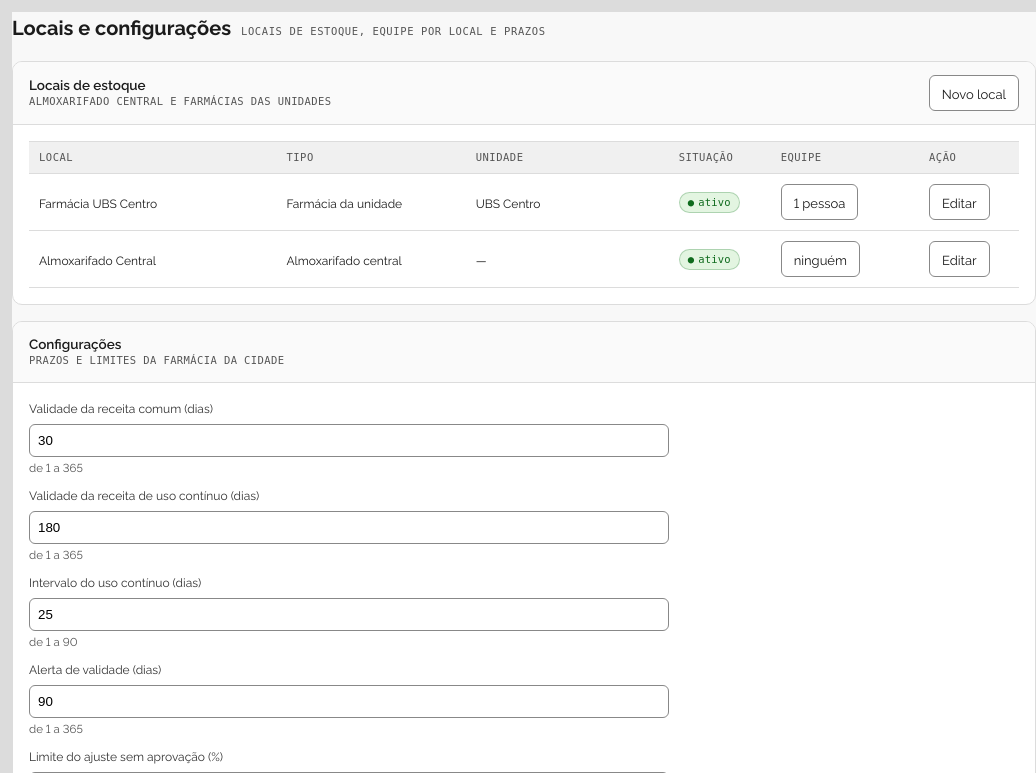
Test: PharmacyAdmin › equipe: só quem tem o papel; farmacêutico sem CBO 2234 recusado com a frase
Step 1. Click the button with aria-label "Equipe de Farmácia UBS Centro" → coordinates (819, 202), box left=781, top=184, right=858, bottom=220
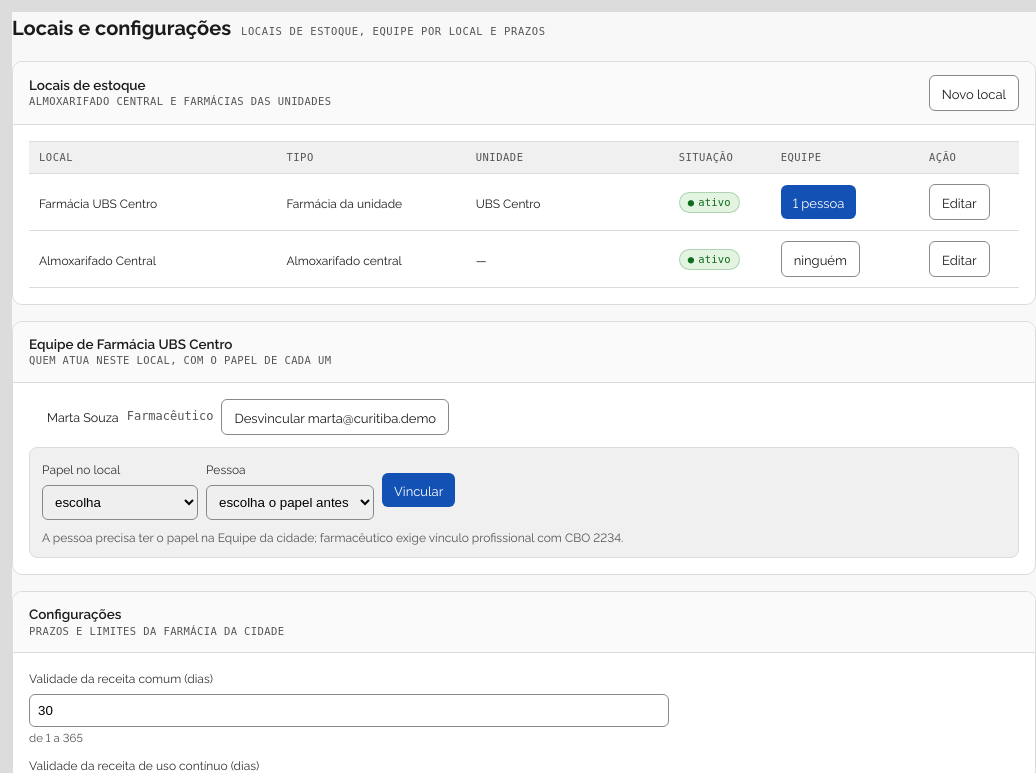
Now the text "Marta Souza" is shown, box left=47, top=408, right=119, bottom=426
Step 2. Select "Almoxarife" in the dropdown labelled "Papel no local" → coordinates (120, 502), box left=42, top=485, right=198, bottom=520
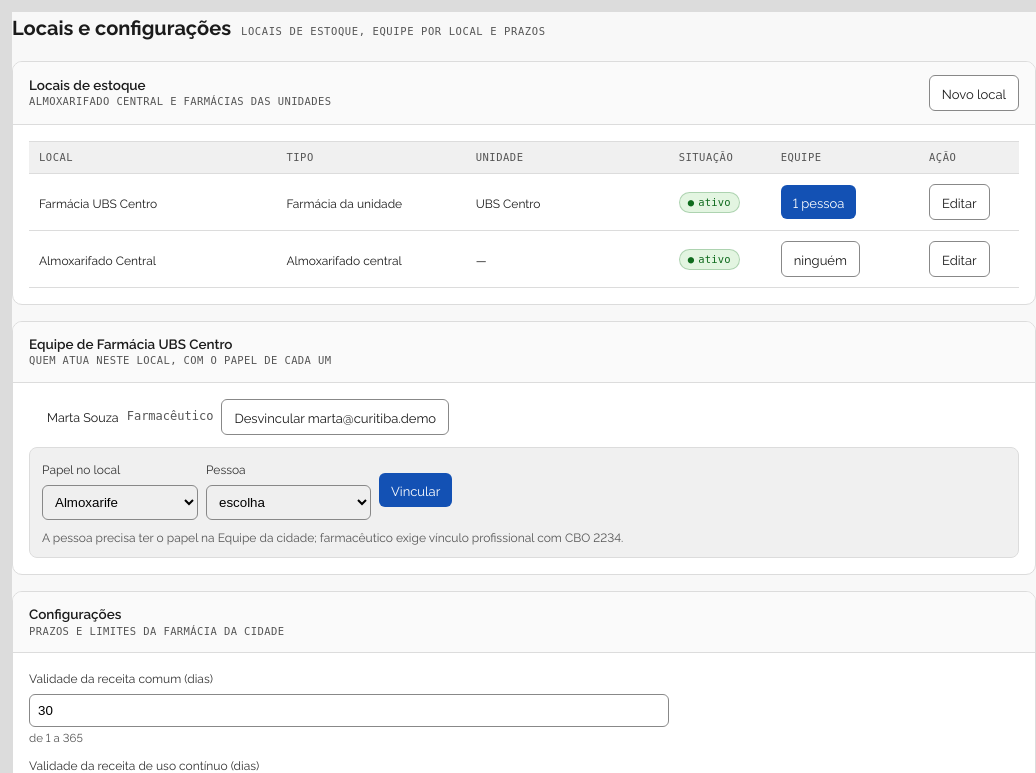
Expected: the option does not show "marta@curitiba.demo"
Step 3. Select "Farmacêutico" in the dropdown labelled "Papel no local" → coordinates (120, 502), box left=42, top=485, right=198, bottom=520
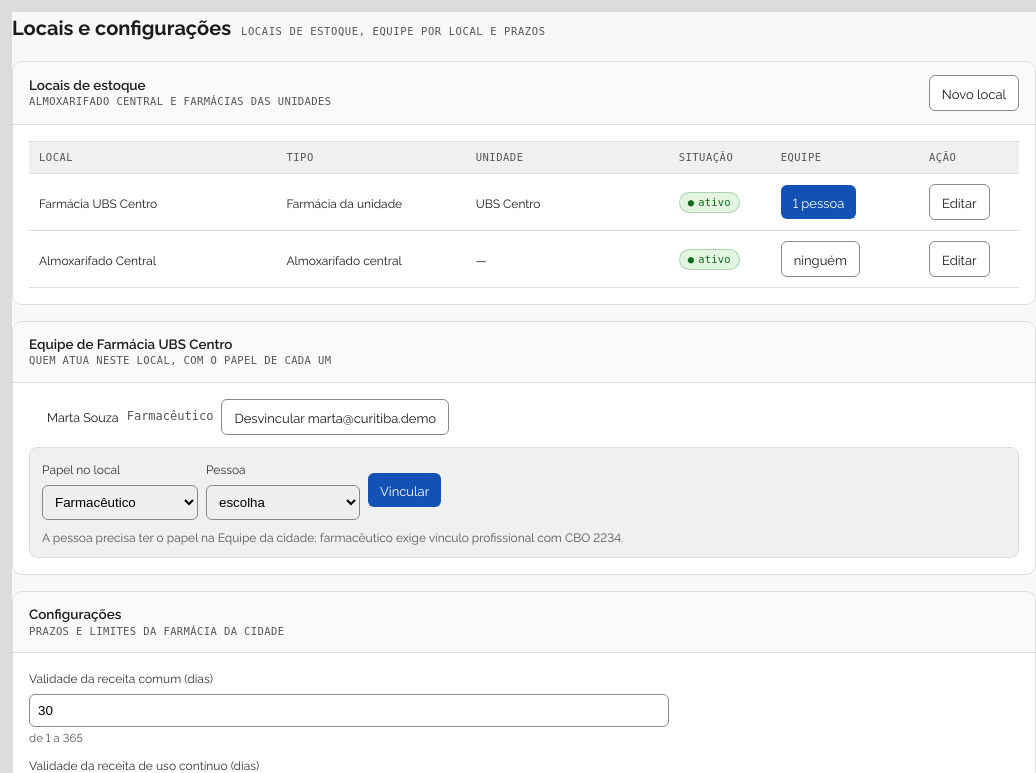
Expected: the option does not show "marta@curitiba.demo"
Step 4. Select "ana@curitiba.demo" in the dropdown labelled "Pessoa" → coordinates (283, 502), box left=206, top=485, right=360, bottom=520
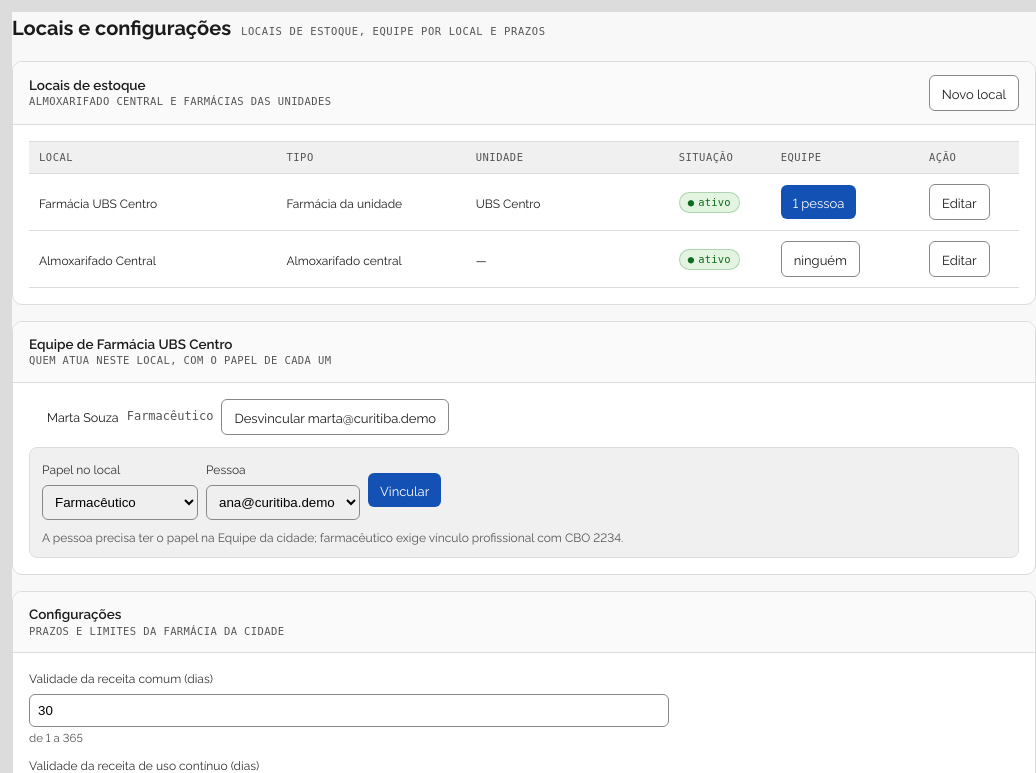
Step 5. Click the button "Vincular" → coordinates (405, 490), box left=368, top=473, right=441, bottom=507
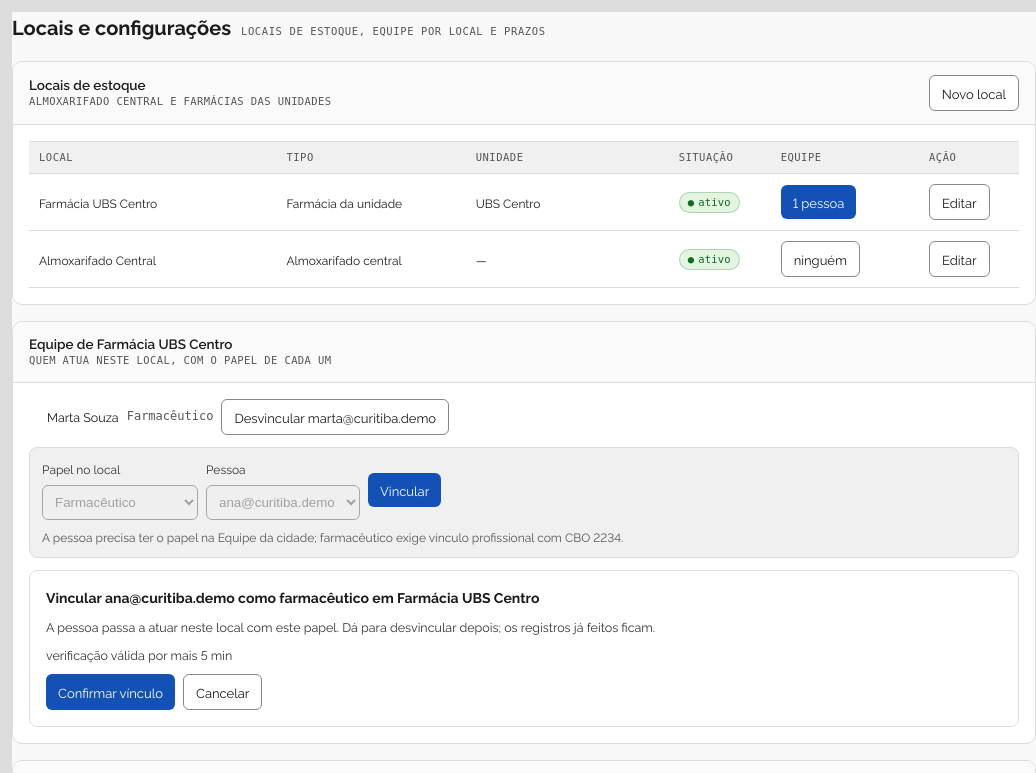
Step 6. Click the button "Confirmar vínculo" → coordinates (110, 692), box left=46, top=674, right=175, bottom=710
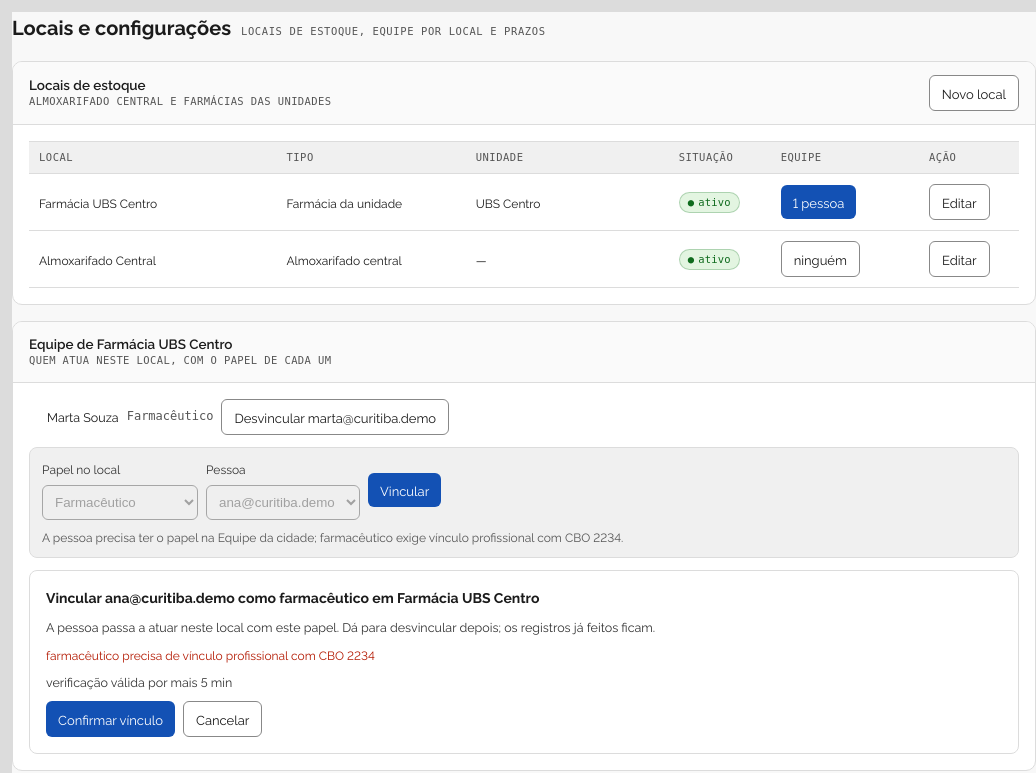
Now the text "farmacêutico precisa de vínculo profissional com CBO 2234" is shown, box left=46, top=646, right=375, bottom=663
